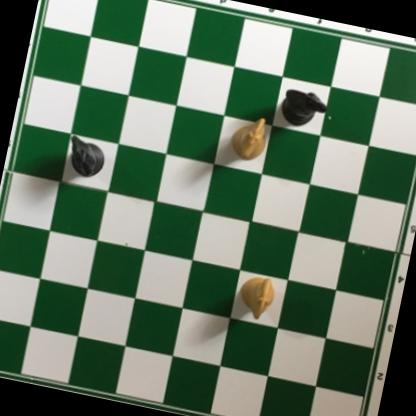black-knight: (276, 83, 332, 131), (62, 134, 110, 181)
white-knight: (227, 112, 276, 165), (236, 273, 279, 324)
